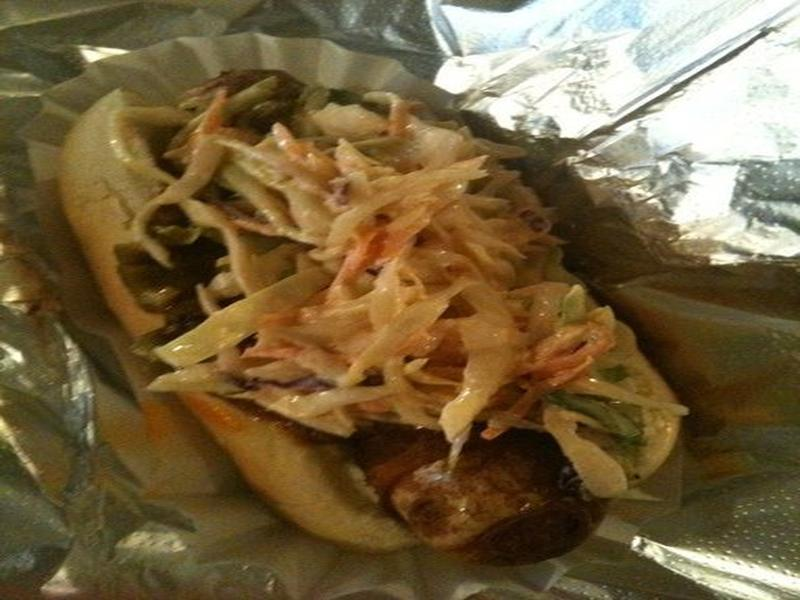hot_dog: (58, 21, 718, 598)
